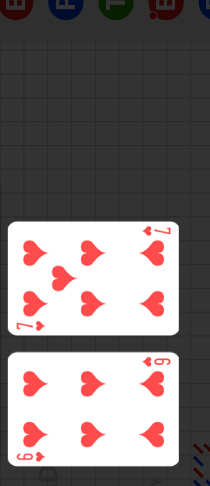6H: (15, 450, 47, 463)
7H: (140, 225, 172, 238)
